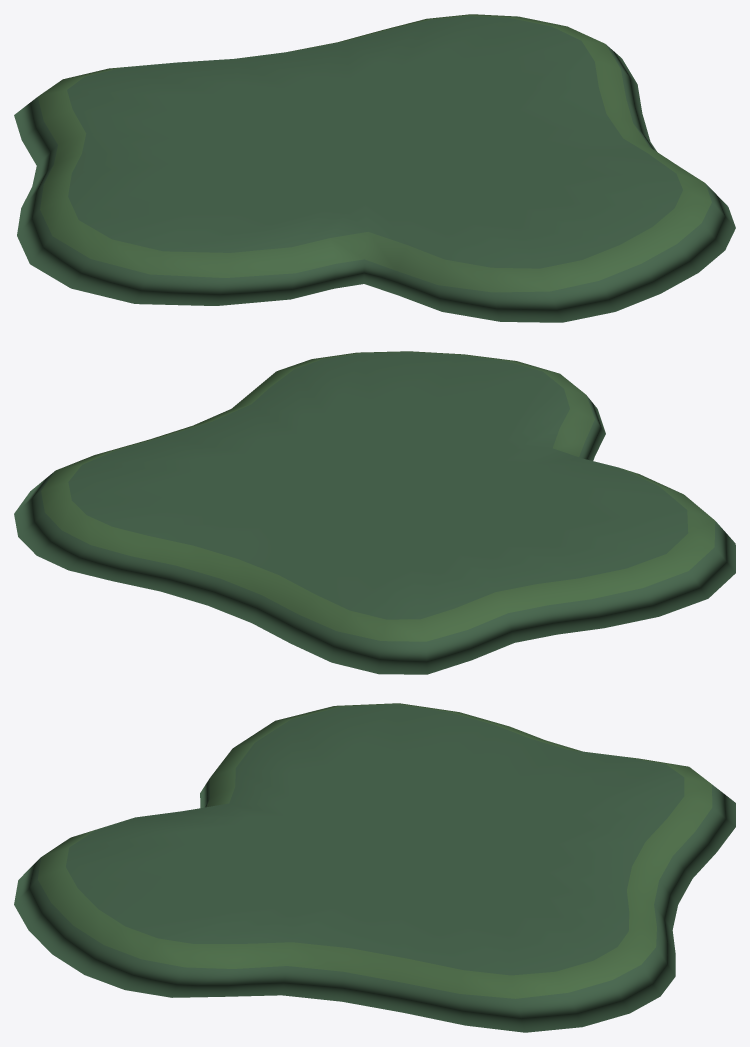
File: Puke.fbx
3 views of the same model, one above another, from view 1: azimuth 30°, elevation 25°; view 2: azimuth 150°, elevation 25°; view 3: azimuth 270°, elevation 25° (orthographic). The views are drawn at different scales.
Parts seen in each view (by area): view 1: Puke; view 2: Puke; view 3: Puke.
Part boxes in pixels (left/top/right/bottom): Puke: left=14, top=14, right=735, bottom=322; Puke: left=14, top=351, right=735, bottom=674; Puke: left=14, top=703, right=735, bottom=1032.
Size of the model in its own units: 41.43 by 2.09 by 39.91.
